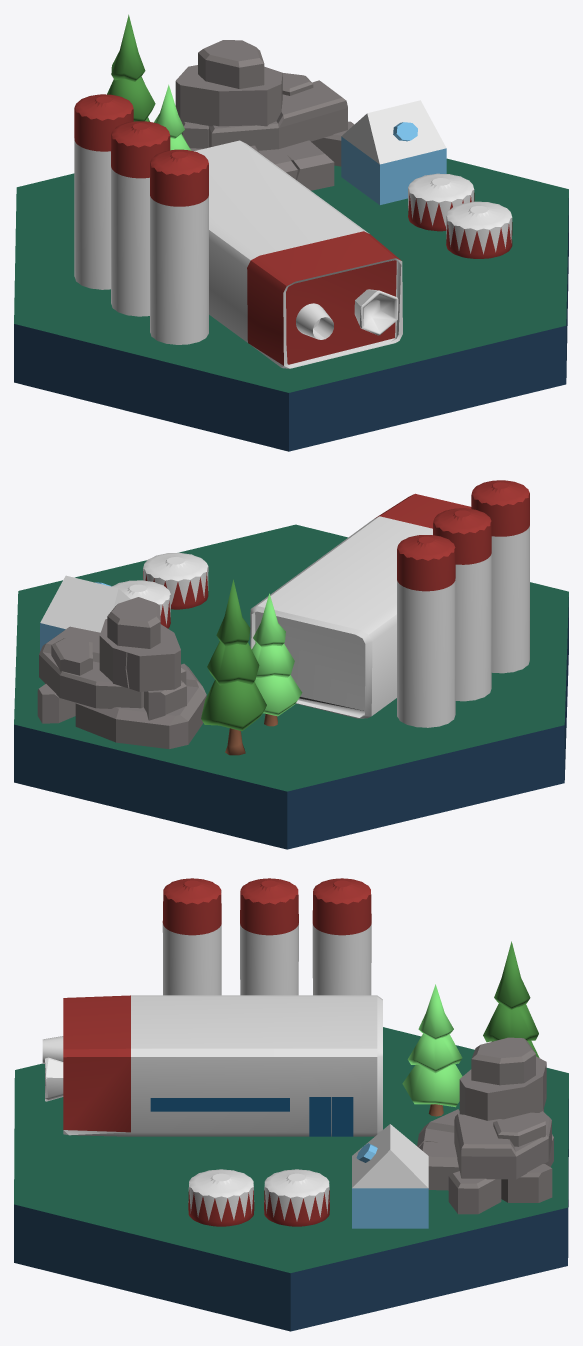
The model's file is Macro - Electric lvl 3 WM2.fbx.
3 renders of one model, top to bottom at view 1: azimuth 30°, elevation 25°; view 2: azimuth 150°, elevation 25°; view 3: azimuth 270°, elevation 25°, orthographic.
Parts seen in each view (by area): view 1: Cylinder.154, Cube battery.011, Rock Type1 02 mesh.013, Cylinder battery, Cylinder battery.004, milkbox1.011, Cylinder battery.005, Cylinder battery.002, Cylinder battery.001, Tree_Spruce_tiny_01.002, Tree_Spruce_tiny_01.001; view 2: Cylinder.154, Cube battery.011, Rock Type1 02 mesh.013, Cylinder battery.005, Cylinder battery, Cylinder battery.004, Tree_Spruce_tiny_01.002, Tree_Spruce_tiny_01.001, milkbox1.011, Cylinder battery.002, Cylinder battery.001; view 3: Cylinder.154, Cube battery.011, Rock Type1 02 mesh.013, milkbox1.011, Cylinder battery.005, Cylinder battery, Cylinder battery.004, Tree_Spruce_tiny_01.001, Cylinder battery.002, Cylinder battery.001, Tree_Spruce_tiny_01.002, Plane.002 (+2 smaller).
Part boxes in pixels (bbox=[...]): Cylinder.154: bbox=[14, 158, 568, 451]; Cube battery.011: bbox=[194, 140, 402, 368]; Rock Type1 02 mesh.013: bbox=[175, 40, 354, 190]; Cylinder battery: bbox=[150, 149, 208, 344]; Cylinder battery.004: bbox=[111, 121, 170, 316]; milkbox1.011: bbox=[341, 100, 446, 204]; Cylinder battery.005: bbox=[74, 94, 133, 289]; Cylinder battery.002: bbox=[446, 201, 512, 258]; Cylinder battery.001: bbox=[408, 173, 474, 231]; Tree_Spruce_tiny_01.002: bbox=[107, 14, 155, 121]; Tree_Spruce_tiny_01.001: bbox=[154, 84, 191, 150]; Cylinder.154: bbox=[14, 524, 568, 849]; Cube battery.011: bbox=[250, 493, 471, 718]; Rock Type1 02 mesh.013: bbox=[37, 597, 206, 749]; Cylinder battery.005: bbox=[397, 535, 455, 727]; Cylinder battery: bbox=[471, 480, 529, 673]; Cylinder battery.004: bbox=[433, 508, 491, 701]; Tree_Spruce_tiny_01.002: bbox=[201, 579, 266, 755]; Tree_Spruce_tiny_01.001: bbox=[251, 593, 302, 726]; milkbox1.011: bbox=[40, 575, 130, 651]; Cylinder battery.002: bbox=[143, 552, 208, 609]; Cylinder battery.001: bbox=[112, 580, 170, 628]; Cylinder.154: bbox=[14, 1027, 568, 1331]; Cube battery.011: bbox=[42, 995, 382, 1136]; Rock Type1 02 mesh.013: bbox=[417, 1037, 553, 1214]; milkbox1.011: bbox=[352, 1124, 428, 1228]; Cylinder battery.005: bbox=[312, 878, 371, 995]; Cylinder battery: bbox=[162, 878, 221, 995]; Cylinder battery.004: bbox=[240, 878, 298, 995]; Tree_Spruce_tiny_01.001: bbox=[402, 984, 462, 1116]; Cylinder battery.002: bbox=[188, 1169, 254, 1226]; Cylinder battery.001: bbox=[264, 1169, 329, 1226]; Tree_Spruce_tiny_01.002: bbox=[483, 941, 539, 1057]; Plane.002: bbox=[150, 1098, 289, 1111].
Bounding box in the file's own units: 197 × 80.5 × 172.
